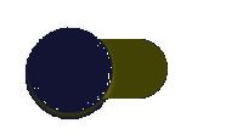Switch: (1, 1, 225, 139)
